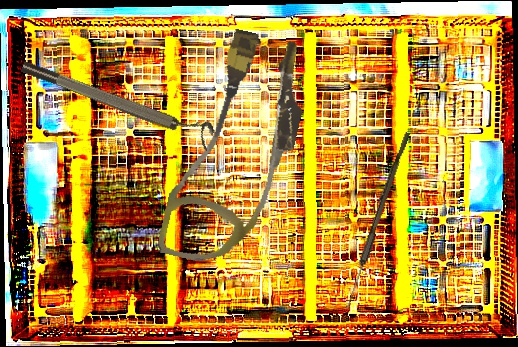Cannula: (155, 22, 318, 277)
Fixation Ring: (19, 49, 217, 151)
Surgical Spoon: (343, 130, 411, 311)
